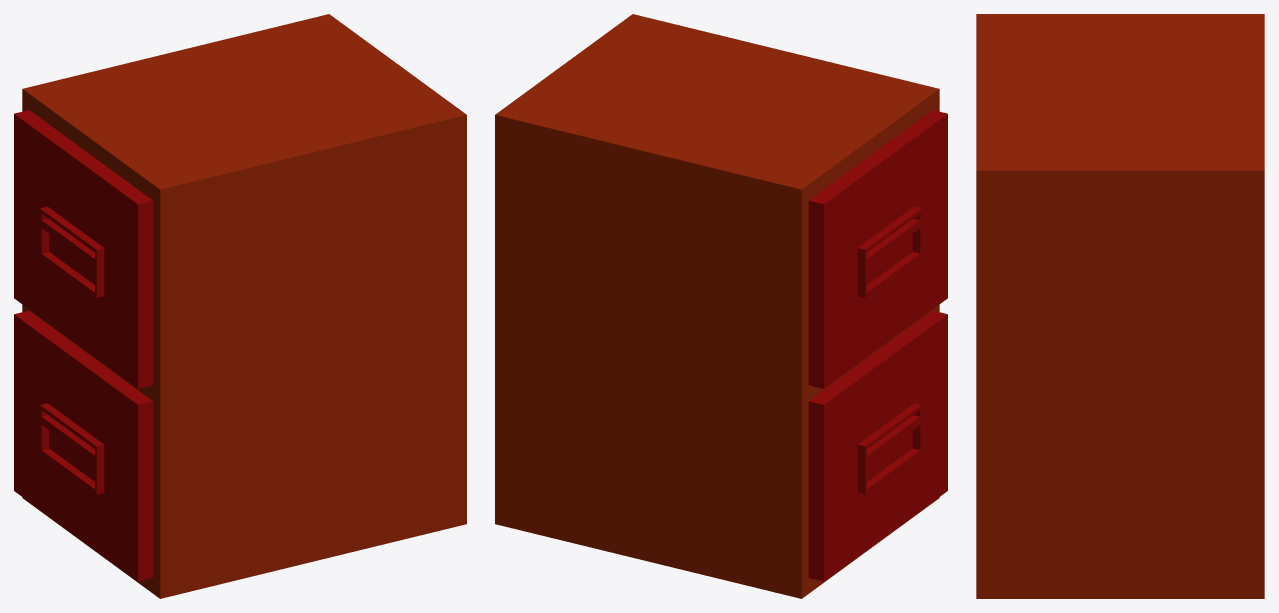
Rendered from SmallDrawers.fbx.
The picture shows the model from 3 angles, left to right: view 1: azimuth 30°, elevation 25°; view 2: azimuth 150°, elevation 25°; view 3: azimuth 270°, elevation 25°; orthographic projection. The views are drawn at different scales.
Visible parts, largest first — view 1: Box009, Drawer007, Drawer008; view 2: Box009, Drawer007, Drawer008; view 3: Box009.
Part boxes in pixels (<box>): Box009: <box>22,14,466,598</box>; Drawer007: <box>14,110,153,388</box>; Drawer008: <box>14,310,153,581</box>; Box009: <box>495,14,939,598</box>; Drawer007: <box>808,110,947,388</box>; Drawer008: <box>808,310,947,581</box>; Box009: <box>976,14,1264,598</box>.
Bounding box in the file's own units: 43 × 51 × 31.12.
